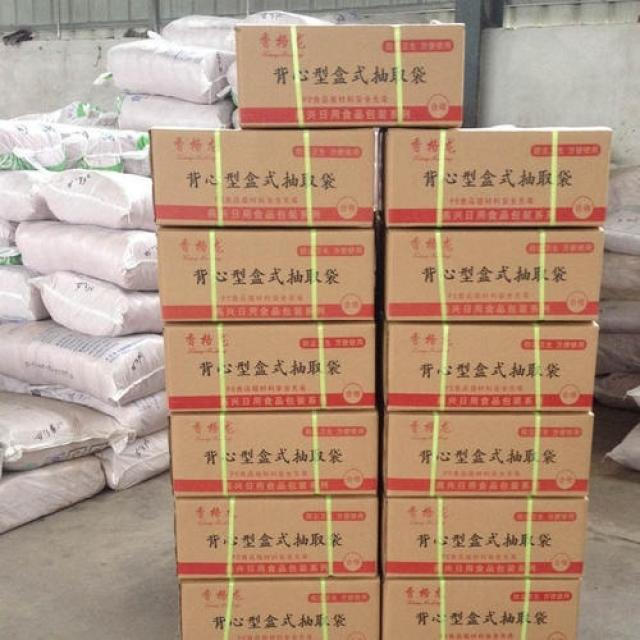box: (236, 23, 465, 128), (147, 125, 376, 228), (381, 127, 613, 228), (155, 229, 375, 323), (384, 228, 604, 321), (383, 323, 599, 412), (161, 324, 376, 412), (166, 411, 379, 497), (383, 412, 595, 497), (173, 497, 378, 580), (380, 498, 590, 579), (177, 579, 381, 640), (381, 580, 580, 640)
